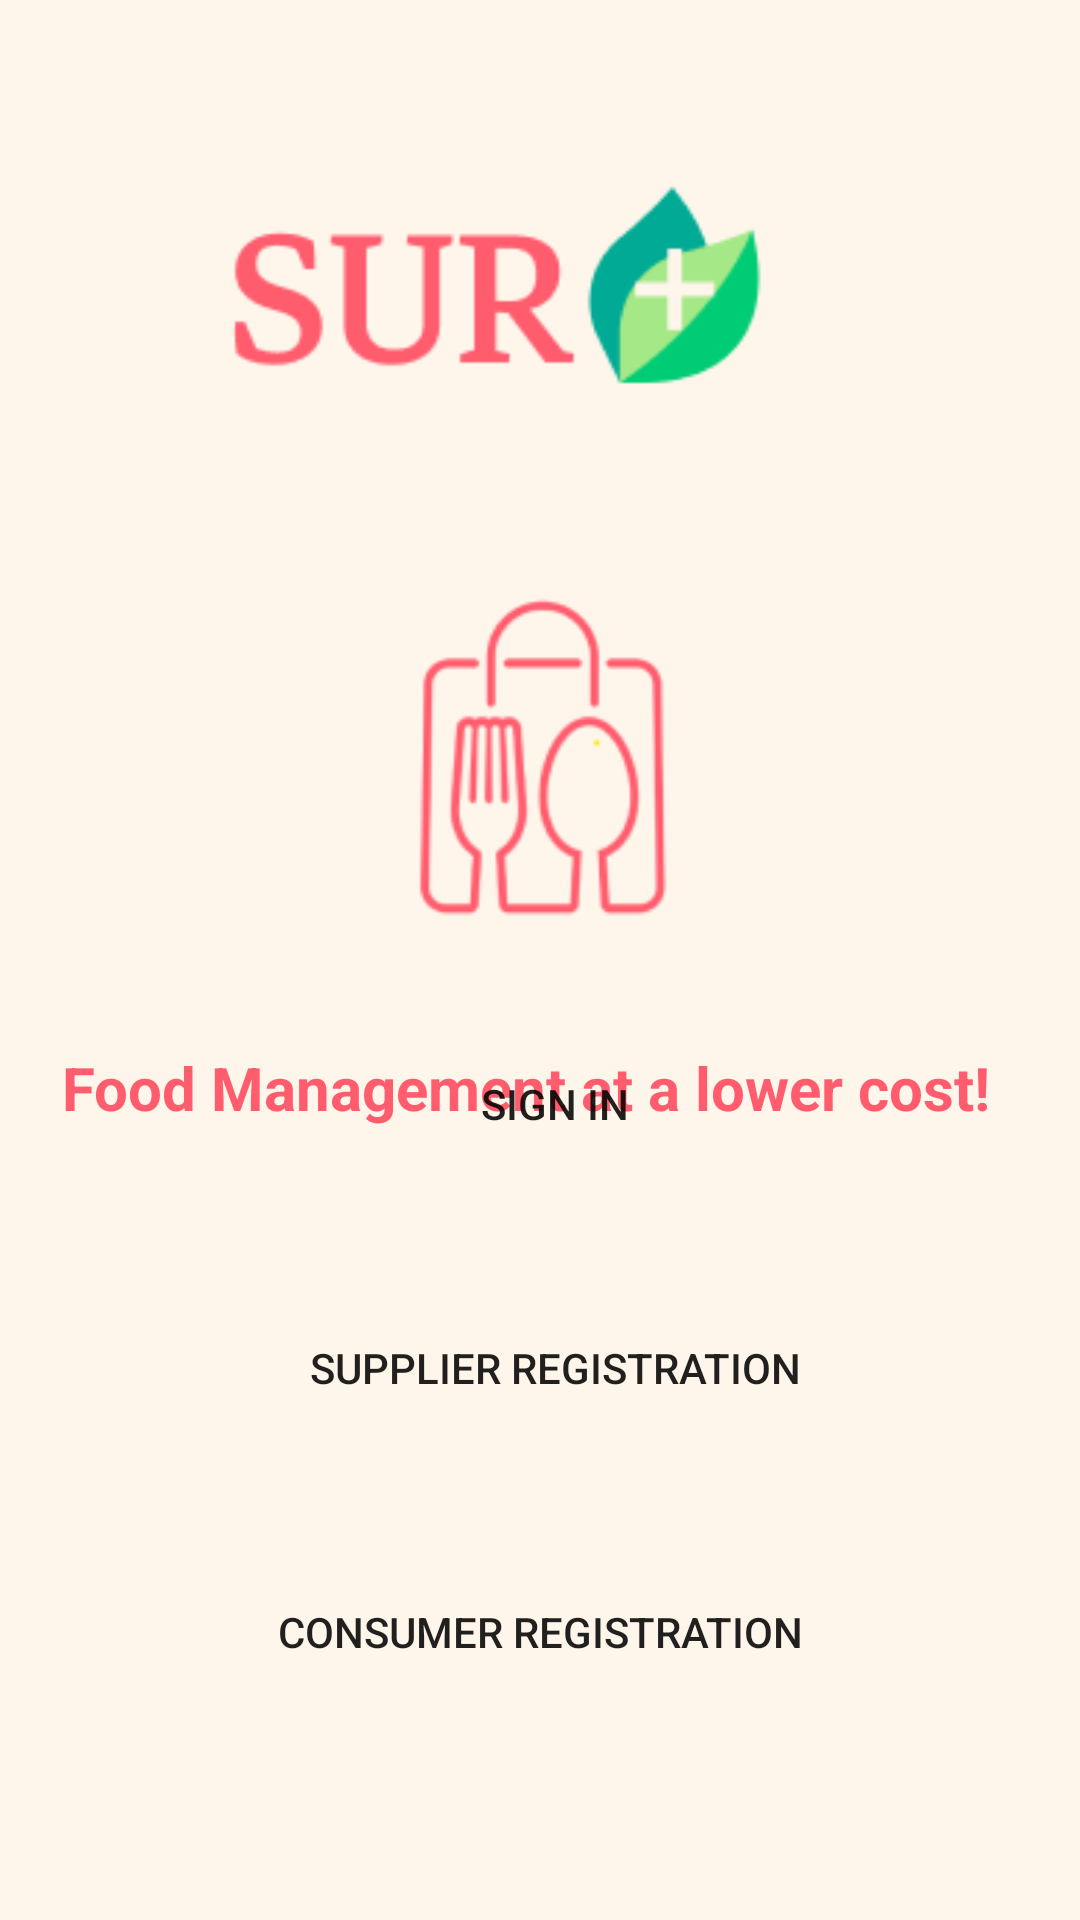

Screen size 1080px×1920px. Icon name, then its box in pixels as (x1, y1, x2, y2):
bag: (419, 600, 666, 915)
